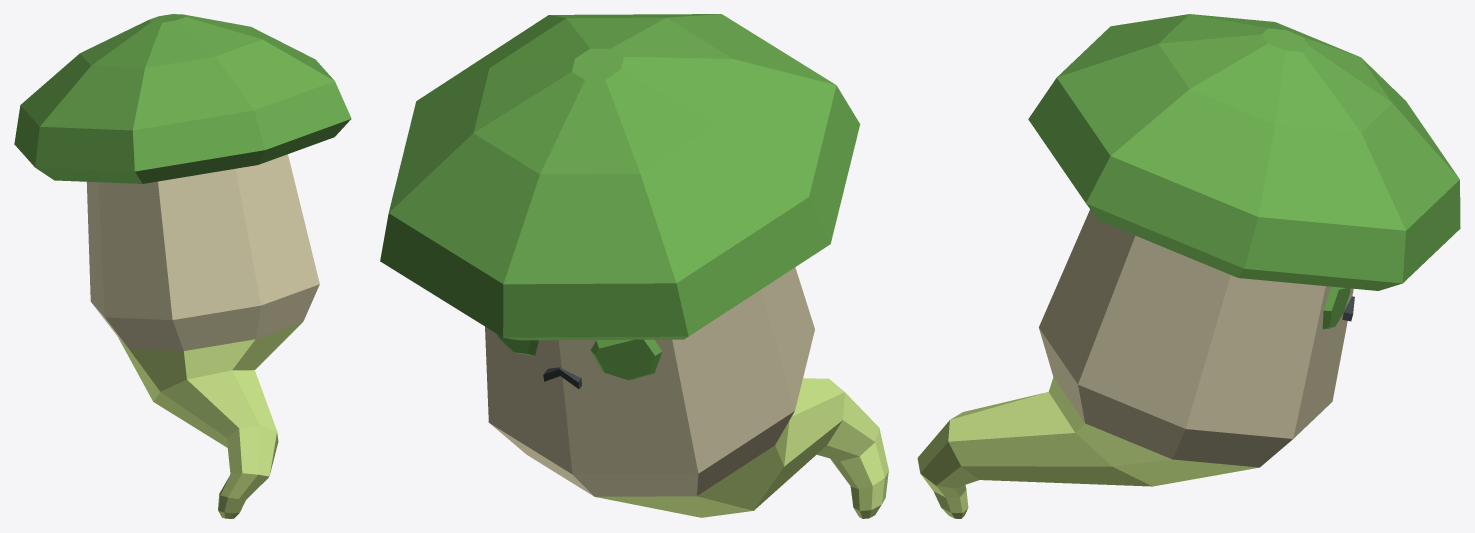
File: earth_anim.fbx
The picture shows the model from 3 angles, left to right: view 1: azimuth 30°, elevation 25°; view 2: azimuth 150°, elevation 25°; view 3: azimuth 270°, elevation 25°; orthographic projection. The views are drawn at different scales.
Visible parts, largest first — view 1: earth; view 2: earth; view 3: earth.
Boxes of the visible parts, bbox=[...] form: earth: bbox=[14, 14, 351, 518]; earth: bbox=[380, 14, 888, 518]; earth: bbox=[917, 14, 1460, 518].
Bounding box in the file's own units: 225 × 290 × 273.
